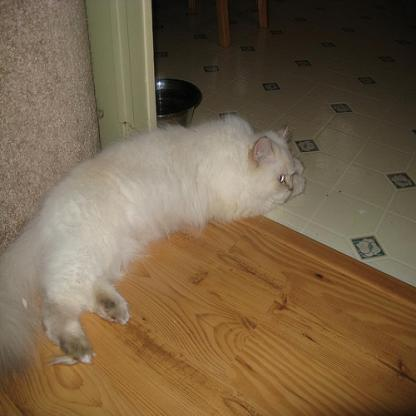cat: (0, 113, 306, 375)
